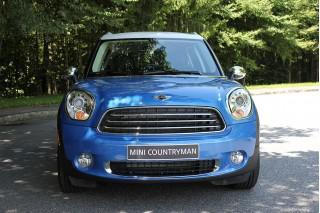mini: (149, 89, 175, 107)
